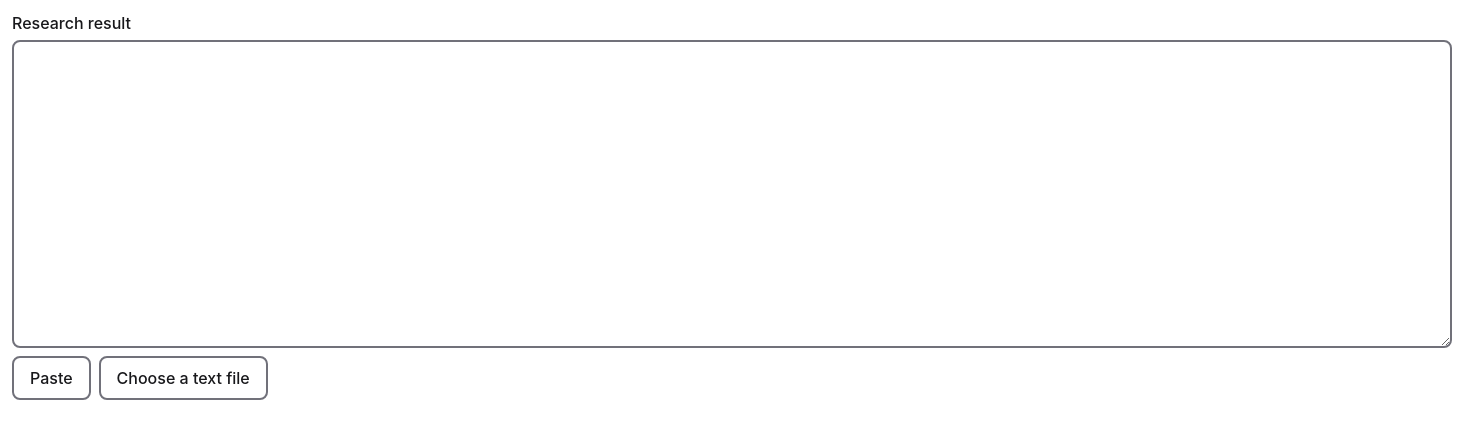
Test: PasteArea › [IHM-28] explains the long press when the phone refuses the clipboard
What coordinates should you click on to do the following:
click the button "Paste"
I would click on:
 (51, 378)
Its box is [12, 356, 91, 400].
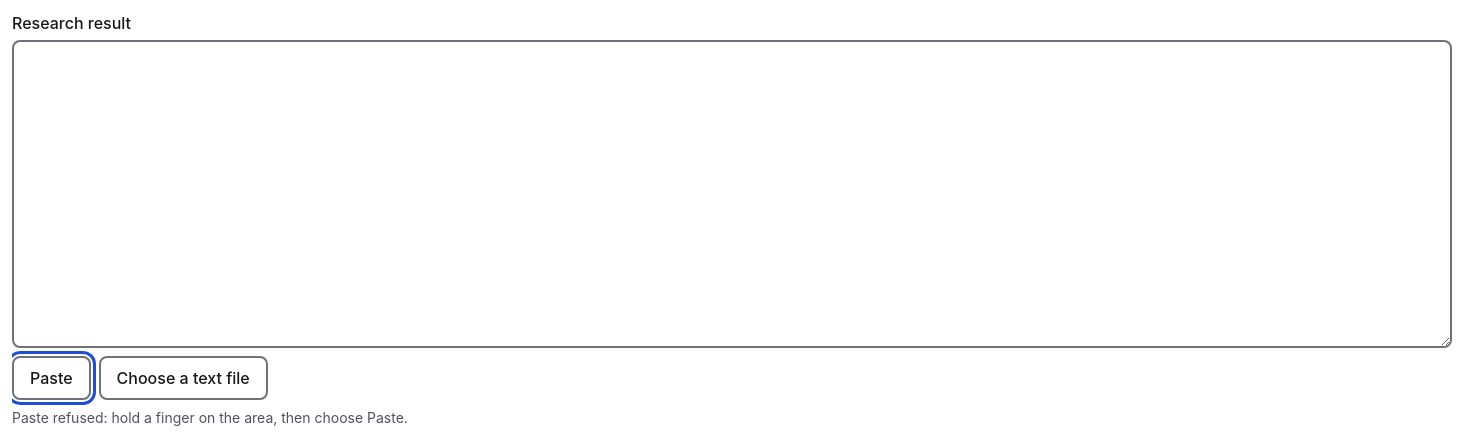
Expected: the message reads "Paste refused: hold a finger on the area, then choose Paste.", [12, 409, 408, 426]
